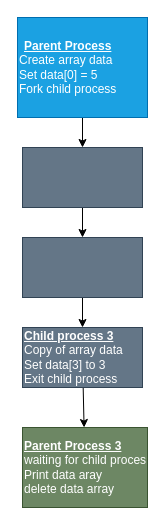
Some shapes in this 165 by 525 pixel diagram are drawn without their labels. Each missing label, with the box of its shape:
Child process 1 Copy of array data Set data[1] to 1 Exit child process: (22, 146, 142, 208)
Child process 2 Copy of array data Set data[2] to 2 Exit child process: (22, 236, 142, 298)
